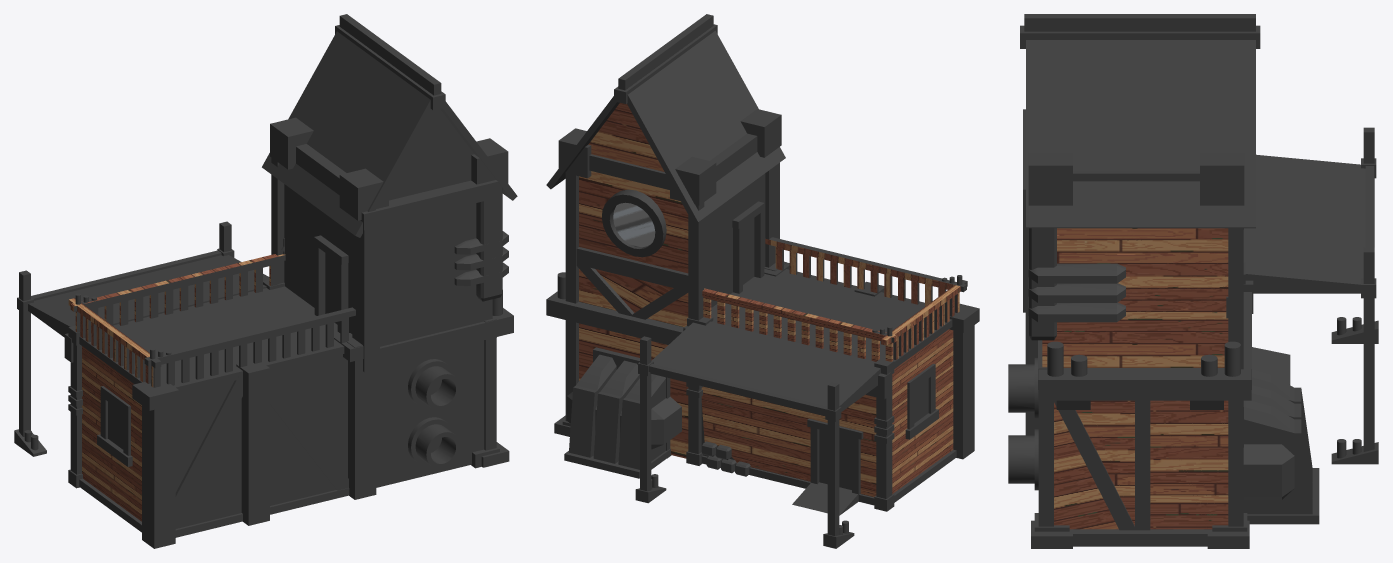
File: Original Buliding_B.fbx
The picture shows the model from 3 angles, left to right: view 1: azimuth 30°, elevation 25°; view 2: azimuth 150°, elevation 25°; view 3: azimuth 270°, elevation 25°; orthographic projection. The views are drawn at different scales.
Visible parts, largest first — view 1: Original_Building_OK; view 2: Original_Building_OK; view 3: Original_Building_OK.
Boxes of the visible parts, x1,y1,x2,y2 form: Original_Building_OK: (14,14,517,548); Original_Building_OK: (546,14,979,548); Original_Building_OK: (1008,14,1378,548).
Bounding box in the file's own units: 1222 × 1261 × 863.
